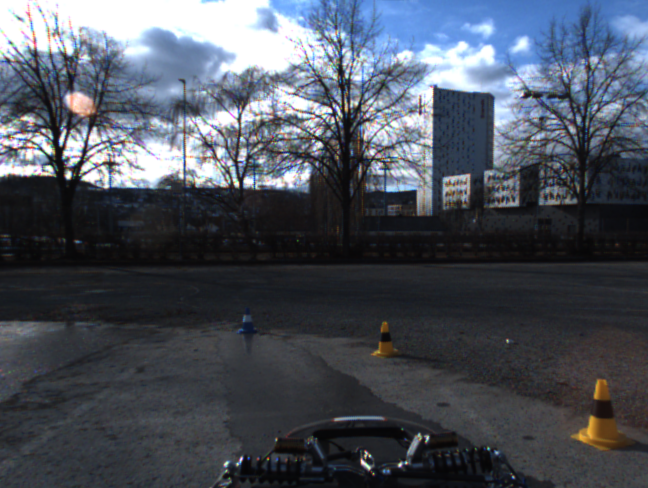cone-small-blue: (236, 307, 257, 334)
cone-small-yellow: (569, 379, 637, 450), (370, 321, 403, 358)
